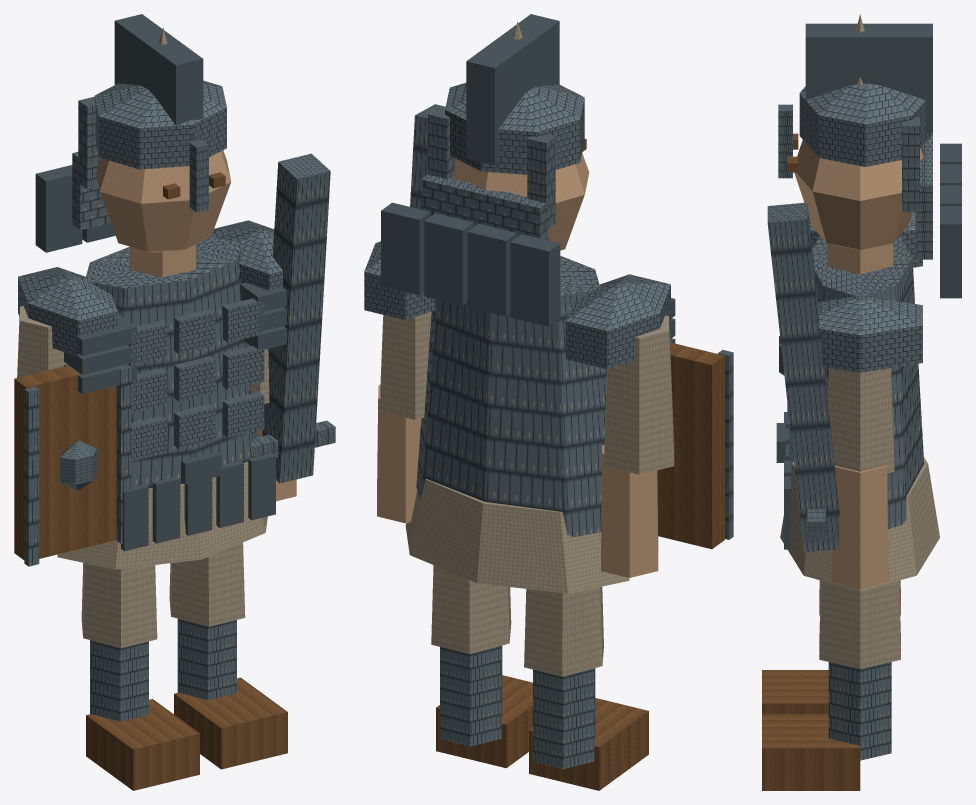
File: unit-SWORD-lod0.glb
The picture shows the model from 3 angles, left to right: view 1: azimuth 30°, elevation 25°; view 2: azimuth 150°, elevation 25°; view 3: azimuth 270°, elevation 25°; orthographic projection. The views are drawn at different scales.
Bounding box in the file's own units: 0.209 × 0.448 × 0.11.
1 material, 1 textured.
